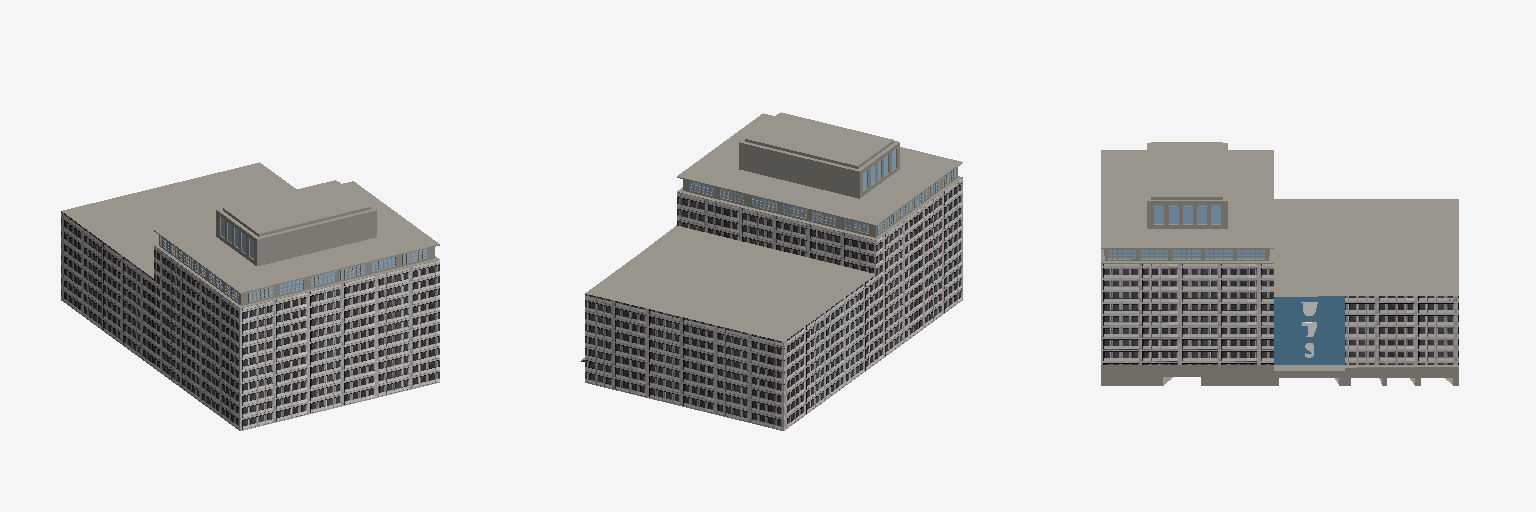
The picture shows the model from 3 angles: view 1: azimuth 30°, elevation 25°; view 2: azimuth 150°, elevation 25°; view 3: azimuth 270°, elevation 25°; orthographic projection.
Visible parts, largest first — view 1: Mesh29 Group1 Model; view 2: Mesh29 Group1 Model; view 3: Mesh29 Group1 Model.
Boxes of the visible parts, <box> form: Mesh29 Group1 Model: <box>61,162,439,430</box>; Mesh29 Group1 Model: <box>581,112,962,430</box>; Mesh29 Group1 Model: <box>1101,142,1458,385</box>.
Bounding box in the file's own units: 741 × 565 × 1091.
Materials: 6 (2 with a texture image).